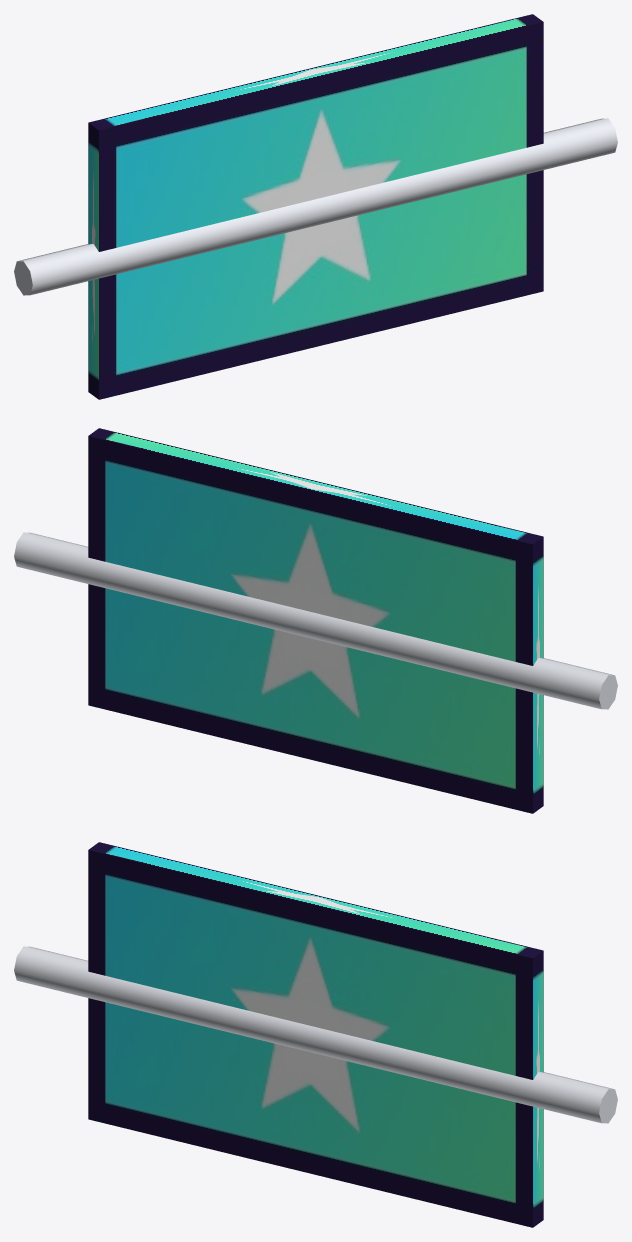
Rendered from pp_spinner.glb.
The picture shows the model from 3 angles, top to bottom: view 1: azimuth 30°, elevation 25°; view 2: azimuth 150°, elevation 25°; view 3: azimuth 330°, elevation 25°; orthographic projection.
Parts seen in each view (by area): view 1: Plate, Axle; view 2: Plate, Axle; view 3: Plate, Axle.
Part boxes in pixels (bbox=[...]): Plate: bbox=[88, 14, 543, 399]; Axle: bbox=[14, 118, 617, 295]; Plate: bbox=[88, 428, 543, 813]; Axle: bbox=[14, 532, 617, 709]; Plate: bbox=[88, 842, 543, 1227]; Axle: bbox=[14, 946, 617, 1123].
Size of the model in its own units: 0.05 by 0.022 by 0.0028.
7 materials, 6 textured.
